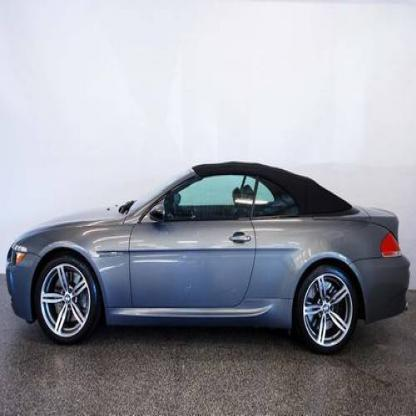Vehicle: (7, 159, 413, 355)
